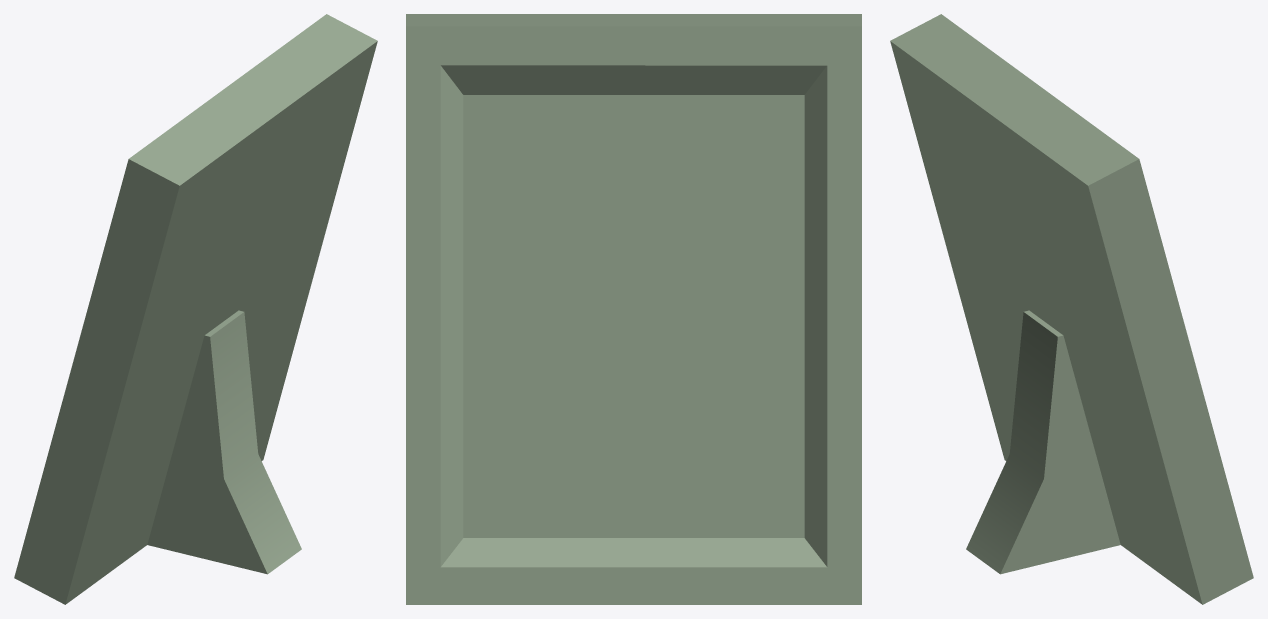
File: photograph_INT.fbx
3 views of the same model, side by side, from view 1: azimuth 30°, elevation 25°; view 2: azimuth 150°, elevation 25°; view 3: azimuth 270°, elevation 25° (orthographic). The views are drawn at different scales.
Parts seen in each view (by area): view 1: photograph; view 2: photograph; view 3: photograph.
Part boxes in pixels (x1,y1,x2,y2): photograph: (14, 14, 377, 604); photograph: (406, 14, 861, 604); photograph: (890, 14, 1253, 604).
Size of the model in its own units: 2.07 by 2.41 by 1.72.
